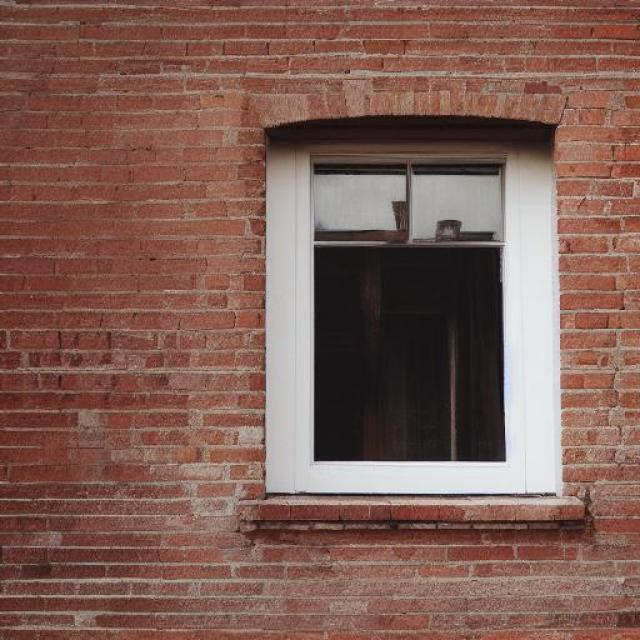window: (269, 129, 562, 492)
